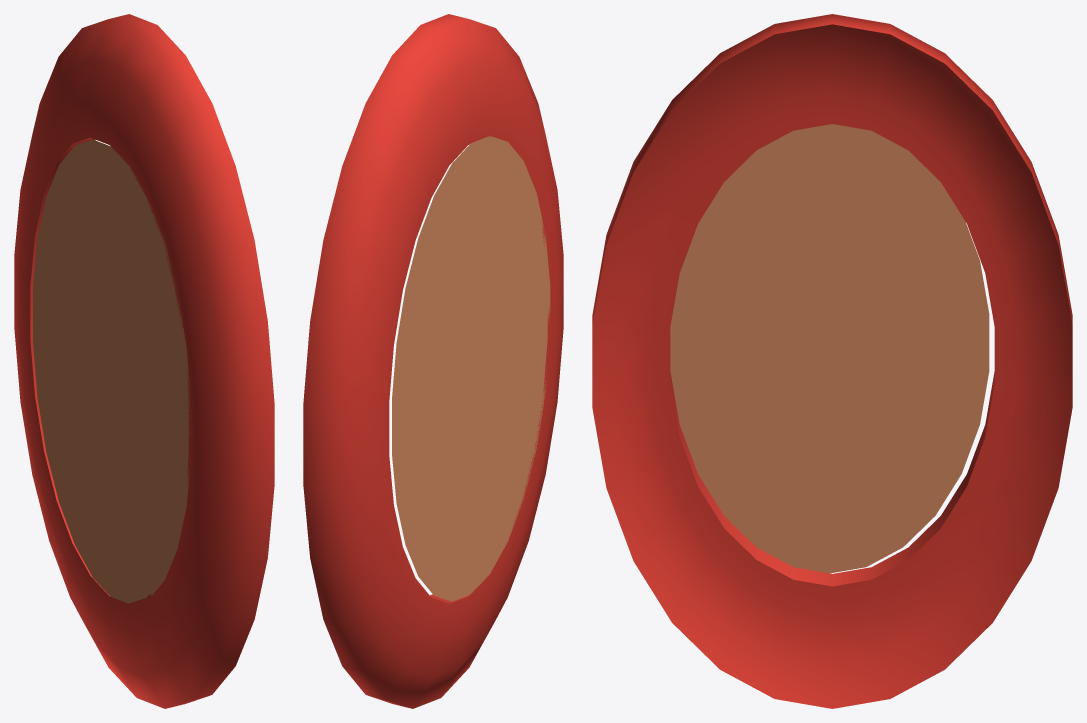
The model's file is Cuadro4.fbx.
3 views of the same model, side by side, from view 1: azimuth 30°, elevation 25°; view 2: azimuth 150°, elevation 25°; view 3: azimuth 270°, elevation 25° (orthographic). The views are drawn at different scales.
Visible parts, largest first — view 1: Circle, Circle.001; view 2: Circle, Circle.001; view 3: Circle, Circle.001.
Part boxes in pixels (x1,y1,x2,y2): Circle: [14, 14, 274, 708]; Circle.001: [33, 139, 191, 603]; Circle: [303, 14, 563, 708]; Circle.001: [392, 136, 550, 601]; Circle: [592, 14, 1072, 708]; Circle.001: [670, 124, 989, 573].
Bounding box in the file's own units: 21.1 × 280 × 178.
